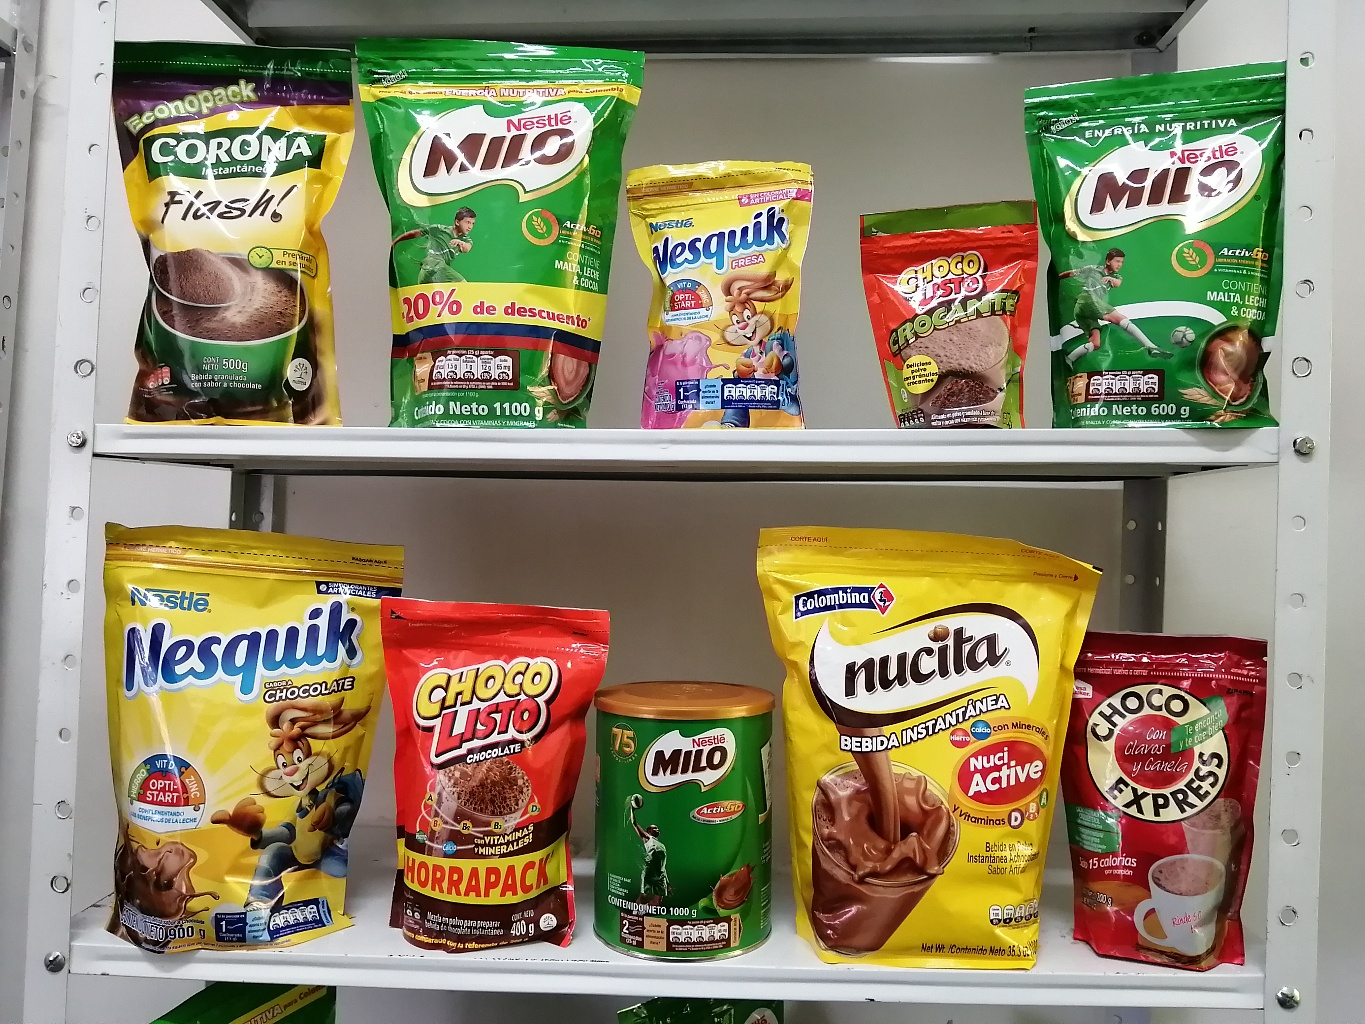COL0170102DYP10000: (835, 187, 1030, 430)
COL0170103DYP40000: (378, 586, 610, 950)
COL0170305DYP20000: (631, 159, 808, 431)
